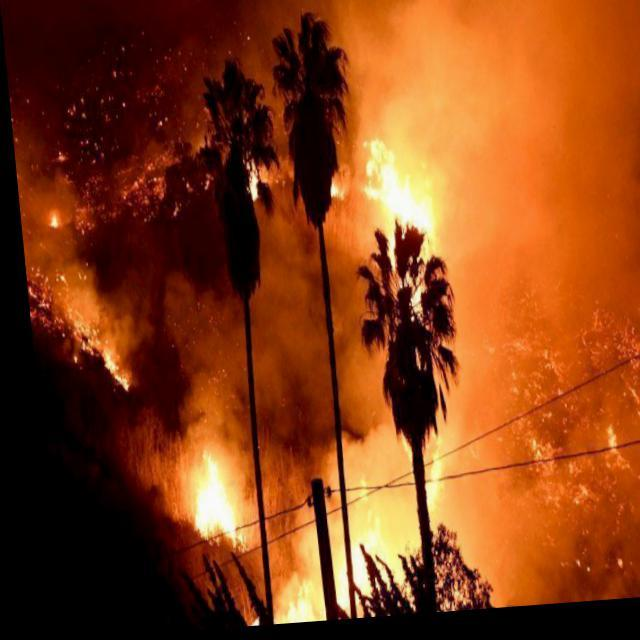Fire: (233, 115, 639, 627), (24, 162, 126, 406), (148, 409, 248, 556)
